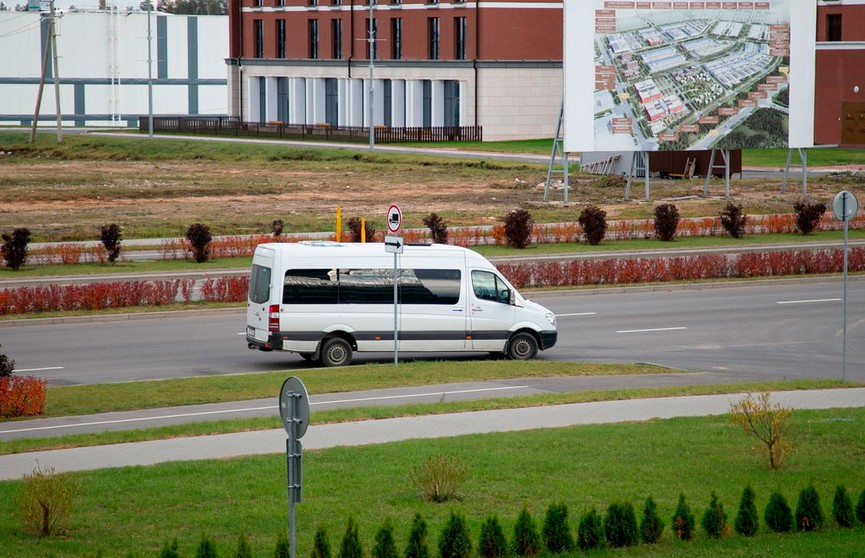van: (251, 238, 562, 363)
